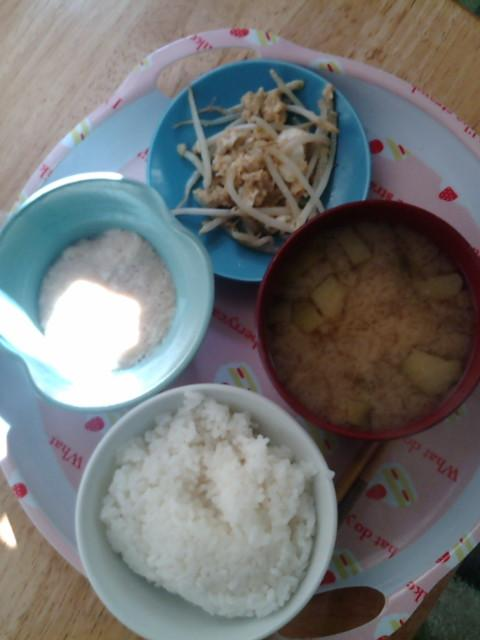rice: (103, 391, 314, 617)
